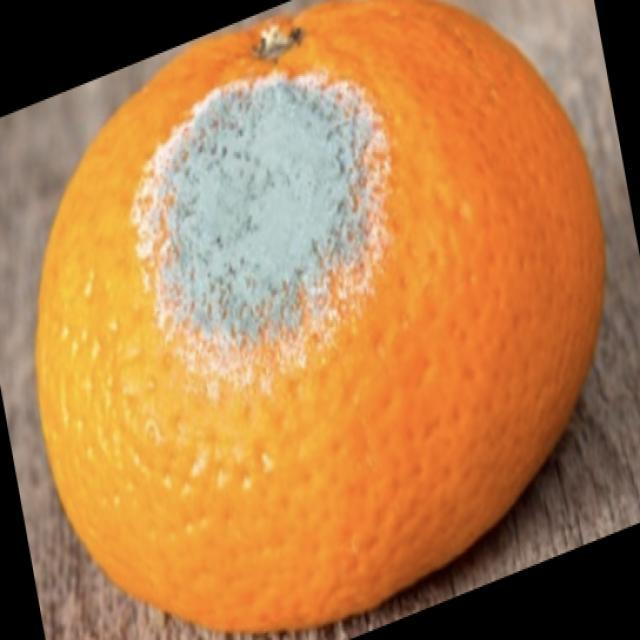sedikit-busuk: (37, 0, 602, 630), (137, 75, 389, 363)
